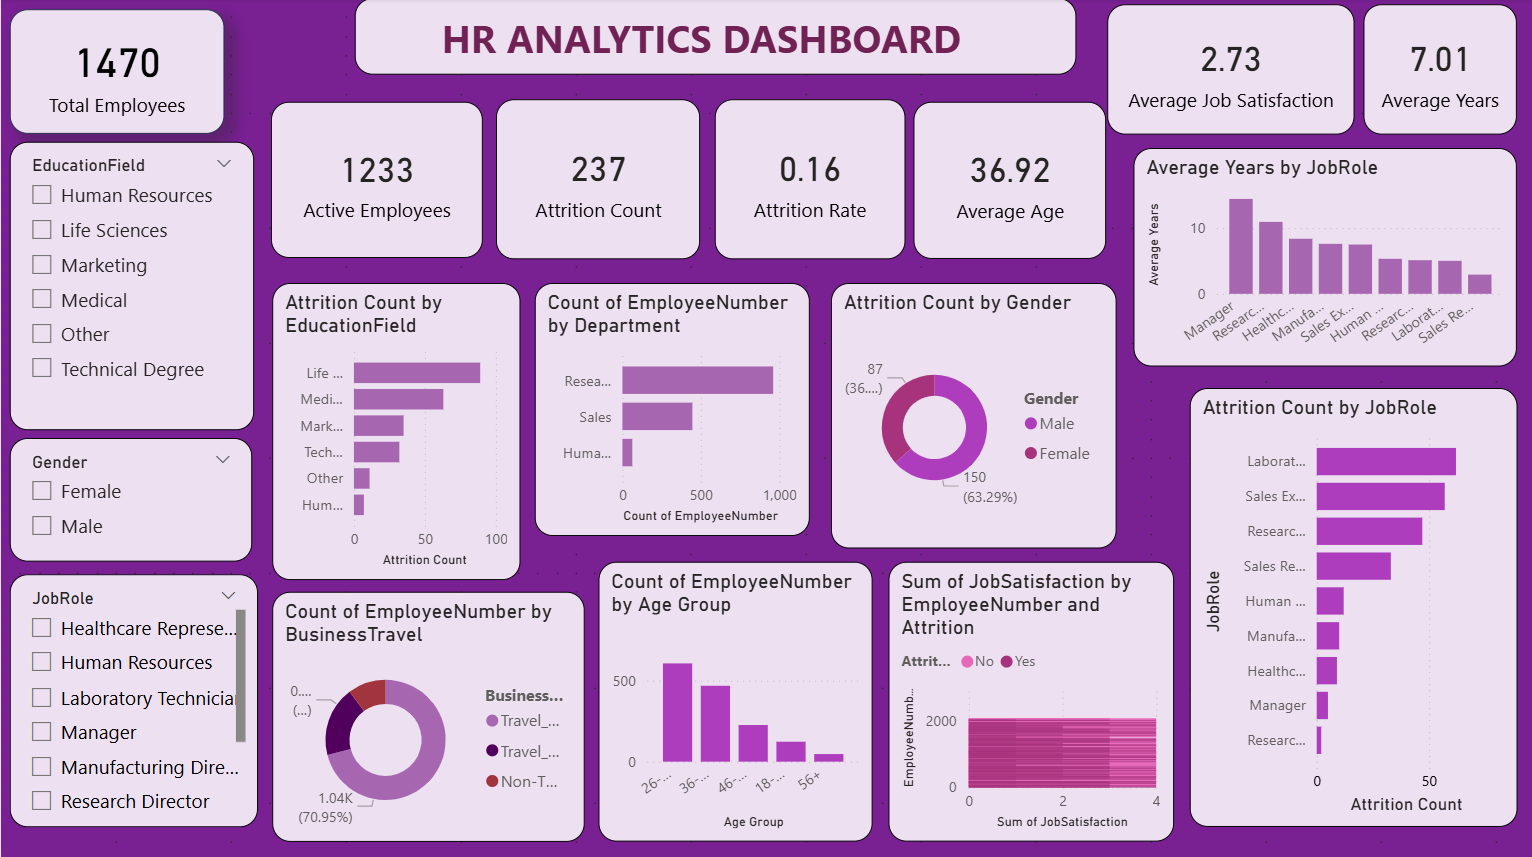

Layout of this report page (visuals, bound fields, positions):
{"tool":"powerbi","page":{"name":"Page 1","canvas":[1280,720],"ordinal":0},"visuals":[{"type":"card","fields":{"Values":["Employee.Total Employees"]},"box":[7.1,9.5,179,104.3],"z":0},{"type":"card","fields":{"Values":["Employee.Active Employees"]},"box":[225.2,86.5,176.6,130.4],"z":1000},{"type":"card","fields":{"Values":["Employee.Attrition Count"]},"box":[413.6,84.1,170.7,133.9],"z":2000},{"type":"card","fields":{"Values":["Employee.Attrition Rate"]},"box":[596.1,84.1,158.8,133.9],"z":3000},{"type":"card","fields":{"Values":["Employee.Average Age"]},"box":[762.1,86.5,161.2,131.6],"z":4000},{"type":"slicer","fields":{"Values":["Employee.JobRole"]},"box":[7.1,481.2,207.4,211],"z":5000},{"type":"donutChart","fields":{"Category":["Employee.Gender"],"Y":["Employee.Attrition Count"]},"box":[693.3,238.2,238.2,221.6],"z":6000},{"type":"clusteredBarChart","fields":{"Category":["Employee.JobRole"],"Y":["Employee.Attrition Count"]},"box":[992,325.9,273.8,366.2],"z":7000},{"type":"clusteredColumnChart","fields":{"Category":["Employee.Age Group"],"Y":["CountNonNull(Employee.EmployeeNumber)"]},"box":[499,470.5,228.7,233.5],"z":8000},{"type":"textbox","box":[295.1,0,602.1,64],"z":9000},{"type":"clusteredBarChart","fields":{"Category":["Employee.EducationField"],"Y":["Employee.Attrition Count"]},"box":[226.4,238.2,207.4,247.7],"z":10000},{"type":"slicer","fields":{"Values":["Employee.EducationField"]},"box":[7.1,119.7,203.9,240.6],"z":11000},{"type":"slicer","fields":{"Values":["Employee.Gender"]},"box":[7.1,367.4,202.7,103.1],"z":12000},{"type":"clusteredBarChart","fields":{"Category":["Employee.Department"],"Y":["CountNonNull(Employee.EmployeeNumber)"]},"box":[445.6,238.2,229.9,211],"z":13000},{"type":"clusteredColumnChart","fields":{"Category":["Employee.JobRole"],"Y":["Employee.Average Years"]},"box":[945.8,125.6,320,182.5],"z":14000},{"type":"donutChart","fields":{"Category":["Employee.BusinessTravel"],"Y":["CountNonNull(Employee.EmployeeNumber)"]},"box":[226.4,495.4,260.7,208.6],"z":15000},{"type":"card","fields":{"Values":["Employee.Average Job Satisfaction"]},"box":[923.3,4.7,206.2,109],"z":16000},{"type":"clusteredBarChart","fields":{"Y":["Sum(Employee.JobSatisfaction)"],"Category":["Employee.EmployeeNumber"],"Series":["Employee.Attrition"]},"box":[740.7,470.5,238.2,233.5],"z":17000},{"type":"card","fields":{"Values":["Employee.Average Years"]},"box":[1137.8,4.7,128,109],"z":18000}]}

Visuals, with their boxes in screenshot pixels (x1, y1, x2, y2), scaled from the page's 1280x720 canvas onto the 1532x857 screenshot:
card - Employee.Total Employees: (8, 11, 223, 135)
card - Employee.Active Employees: (270, 103, 481, 258)
card - Employee.Attrition Count: (495, 100, 699, 259)
card - Employee.Attrition Rate: (713, 100, 904, 259)
card - Employee.Average Age: (912, 103, 1105, 260)
slicer - Employee.JobRole: (8, 573, 257, 824)
donutChart - Employee.Gender x Employee.Attrition Count: (830, 284, 1115, 547)
clusteredBarChart - Employee.JobRole x Employee.Attrition Count: (1187, 388, 1515, 824)
clusteredColumnChart - Employee.Age Group x CountNonNull(Employee.EmployeeNumber): (597, 560, 871, 838)
textbox: (353, 0, 1074, 76)
clusteredBarChart - Employee.EducationField x Employee.Attrition Count: (271, 284, 519, 578)
slicer - Employee.EducationField: (8, 142, 253, 429)
slicer - Employee.Gender: (8, 437, 251, 560)
clusteredBarChart - Employee.Department x CountNonNull(Employee.EmployeeNumber): (533, 284, 808, 535)
clusteredColumnChart - Employee.JobRole x Employee.Average Years: (1132, 149, 1515, 367)
donutChart - Employee.BusinessTravel x CountNonNull(Employee.EmployeeNumber): (271, 590, 583, 838)
card - Employee.Average Job Satisfaction: (1105, 6, 1352, 135)
clusteredBarChart - Sum(Employee.JobSatisfaction) x Employee.EmployeeNumber: (887, 560, 1172, 838)
card - Employee.Average Years: (1362, 6, 1515, 135)
